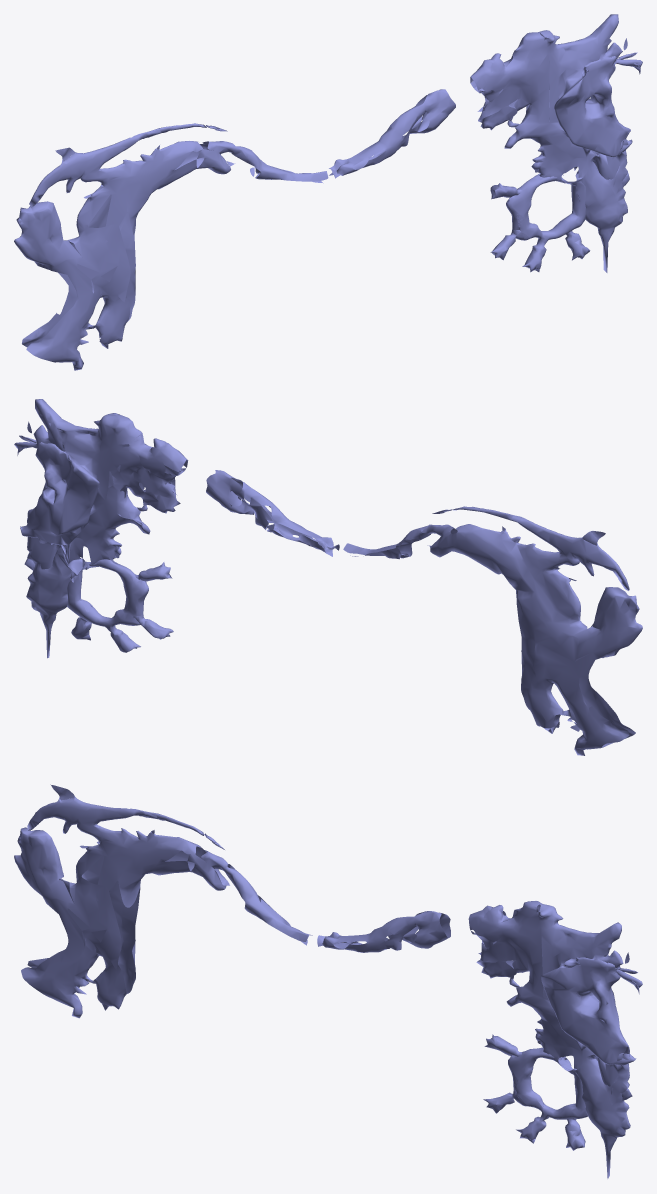
Rendered from overlayTop-aA_s40gC.glb.
The picture shows the model from 3 angles, top to bottom: view 1: azimuth 30°, elevation 25°; view 2: azimuth 150°, elevation 25°; view 3: azimuth 330°, elevation 25°; orthographic projection.
Parts seen in each view (by area): view 1: Mesh_0.002; view 2: Mesh_0.002; view 3: Mesh_0.002.
Boxes of the visible parts, box(x1,y1,x2,y2) form: Mesh_0.002: box(14, 14, 642, 370); Mesh_0.002: box(14, 399, 642, 755); Mesh_0.002: box(14, 784, 642, 1178).
Bounding box in the file's own units: 3.49 × 1.38 × 0.271.
